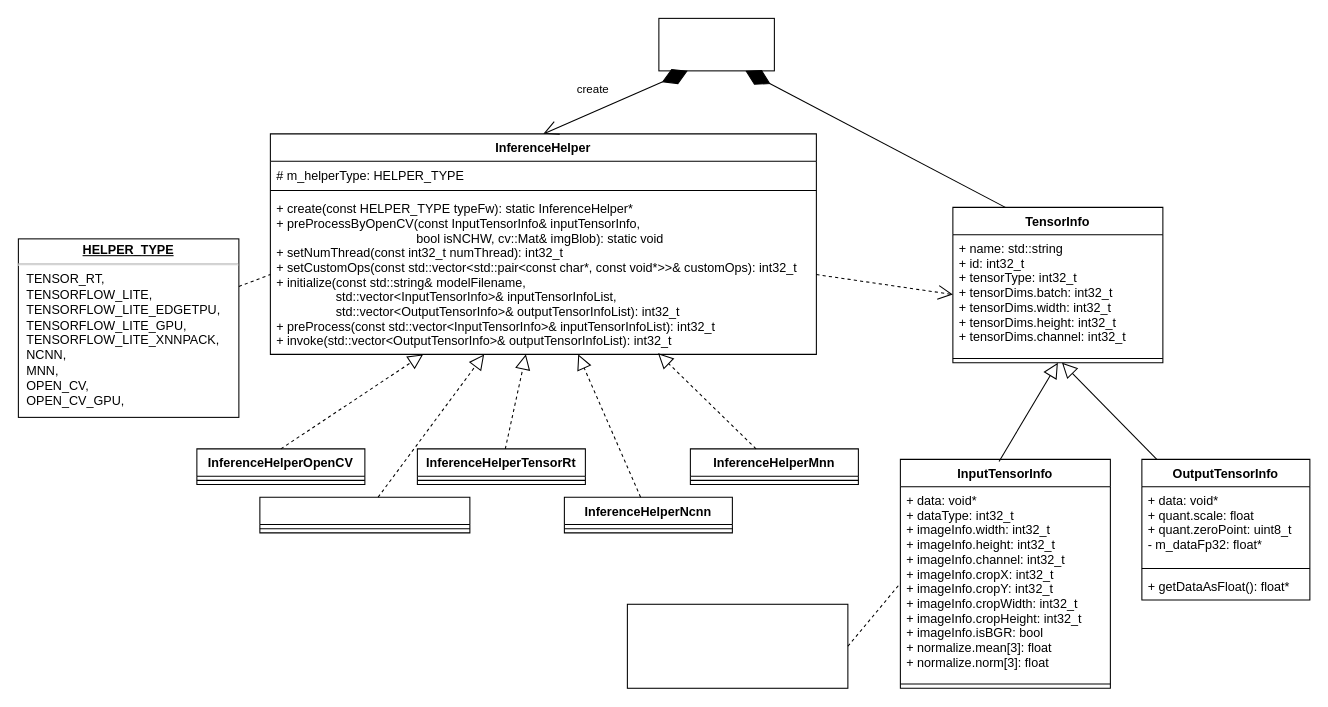
Image size: 1328x707. Some labels were removed from this diagram. Here are the shapes that lost their labels. From the top down, the centre of each, then its label:
At pixel 716 44: "User code".
At pixel 364 514: "InferenceHelperTensorflowLite".
At pixel 737 645: "DATA_TYPE DATA_TYPE_IMAGE, DATA_TYPE_BLOB_NHWC, DATA_TYPE_BLOB_NCHW,".
